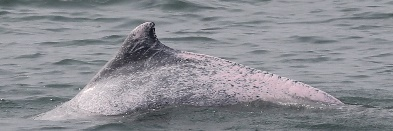fin: (32, 17, 361, 123)
